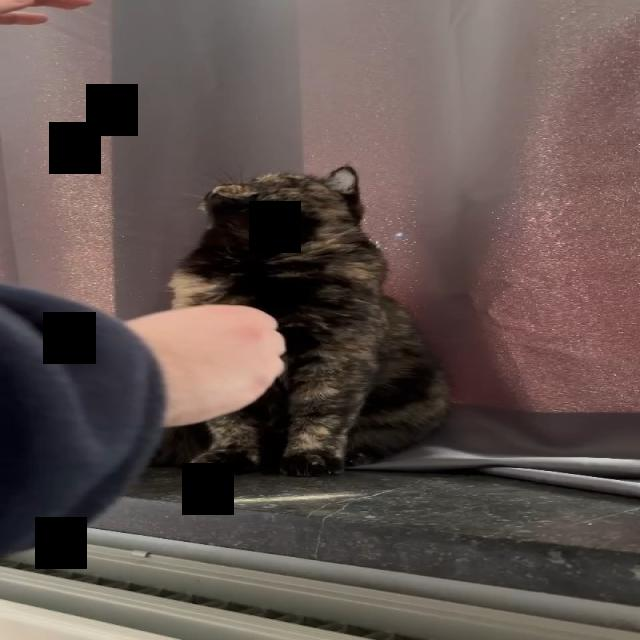authorized: (163, 165, 452, 477)
